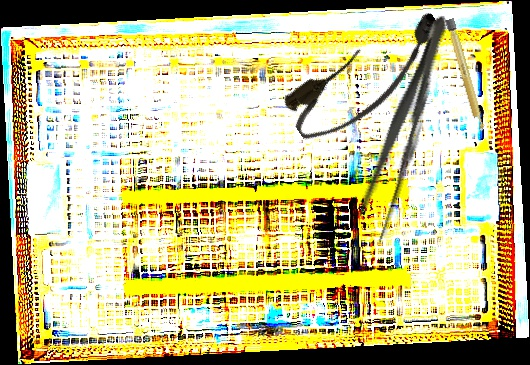Cannula: (277, 2, 459, 152)
Dressing Forceps: (350, 9, 460, 244)
Scalpel Handle: (445, 18, 486, 133)
